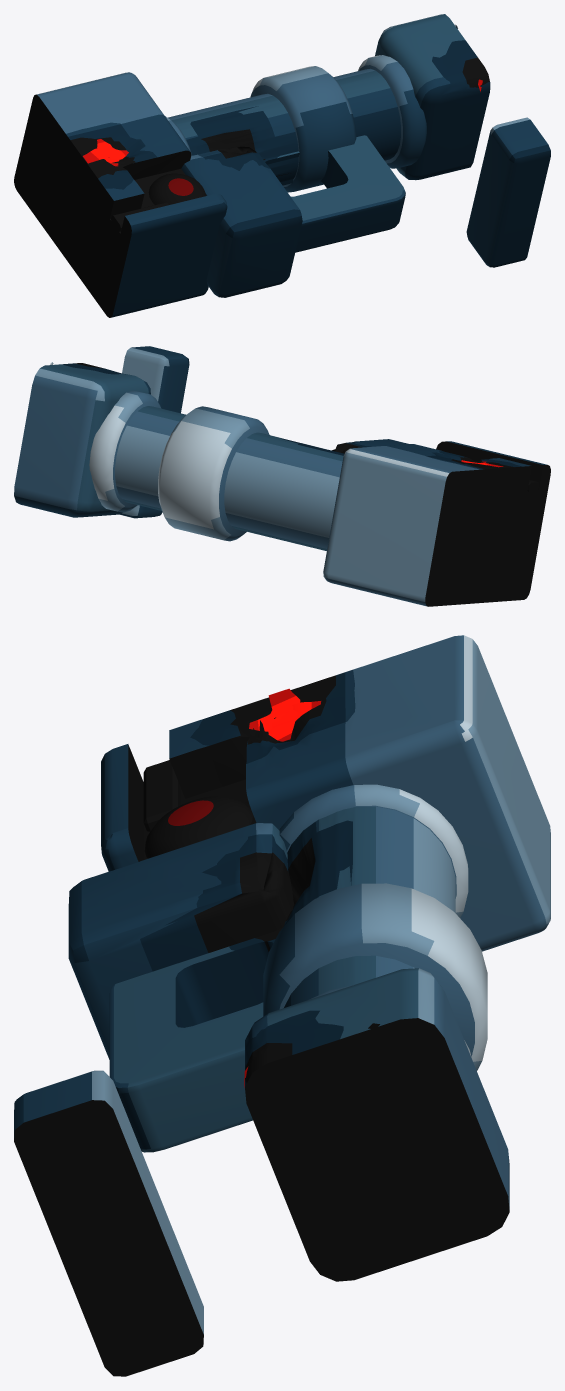
The model's file is deli_cannon_l_dmg_barrel.glb.
3 views of the same model, one above another, from view 1: azimuth 30°, elevation 25°; view 2: azimuth 150°, elevation 25°; view 3: azimuth 270°, elevation 25° (orthographic). The views are drawn at different scales.
Visible parts, largest first — view 1: housing.001, side_block.001, hull.001, barrel.001, ledge.001, loop.001, collar1.001, collar0.001, lens.001, cracks.001; view 2: housing.001, barrel.001, hull.001, collar1.001, collar0.001, ledge.001, side_block.001; view 3: hull.001, housing.001, ledge.001, side_block.001, loop.001, collar1.001, barrel.001, collar2.001, lens.001, glow_strip.001, cracks.001.
Part boxes in pixels (bbox=[...]): housing.001: bbox=[14, 72, 227, 317]; side_block.001: bbox=[181, 146, 302, 297]; hull.001: bbox=[375, 14, 490, 180]; barrel.001: bbox=[168, 68, 400, 181]; ledge.001: bbox=[466, 117, 550, 267]; loop.001: bbox=[263, 135, 405, 252]; collar1.001: bbox=[250, 66, 356, 192]; collar0.001: bbox=[358, 55, 426, 168]; lens.001: bbox=[148, 173, 206, 204]; cracks.001: bbox=[83, 79, 482, 166]; housing.001: bbox=[323, 441, 550, 606]; barrel.001: bbox=[115, 406, 344, 550]; hull.001: bbox=[14, 363, 150, 517]; collar1.001: bbox=[158, 406, 269, 541]; collar0.001: bbox=[89, 390, 161, 512]; ledge.001: bbox=[120, 346, 189, 518]; side_block.001: bbox=[332, 439, 408, 453]; hull.001: bbox=[245, 968, 509, 1281]; housing.001: bbox=[101, 635, 550, 951]; ledge.001: bbox=[14, 1070, 203, 1376]; side_block.001: bbox=[68, 823, 294, 1059]; loop.001: bbox=[109, 927, 282, 1152]; collar1.001: bbox=[263, 883, 487, 1070]; barrel.001: bbox=[284, 806, 455, 1007]; collar2.001: bbox=[279, 784, 468, 917]; lens.001: bbox=[144, 796, 253, 858]; glow_strip.001: bbox=[143, 760, 180, 832]; cracks.001: bbox=[244, 688, 321, 1087].
Bounding box in the file's own units: 24 × 11.3 × 14.76.
